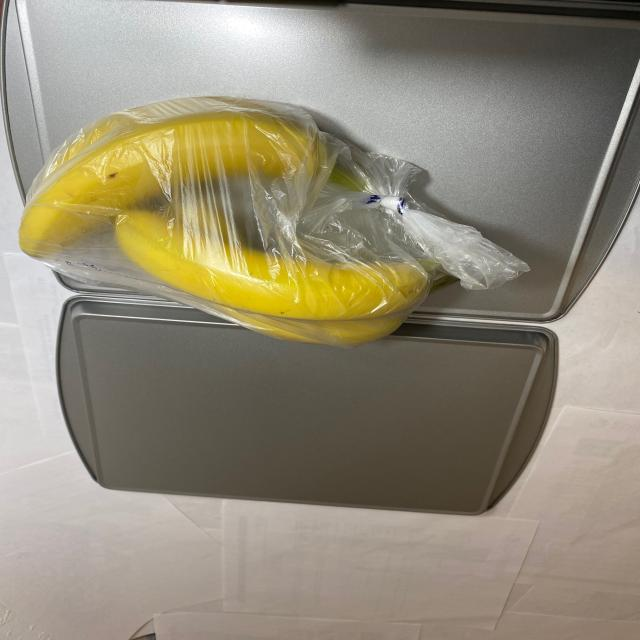banana: (25, 90, 471, 351)
